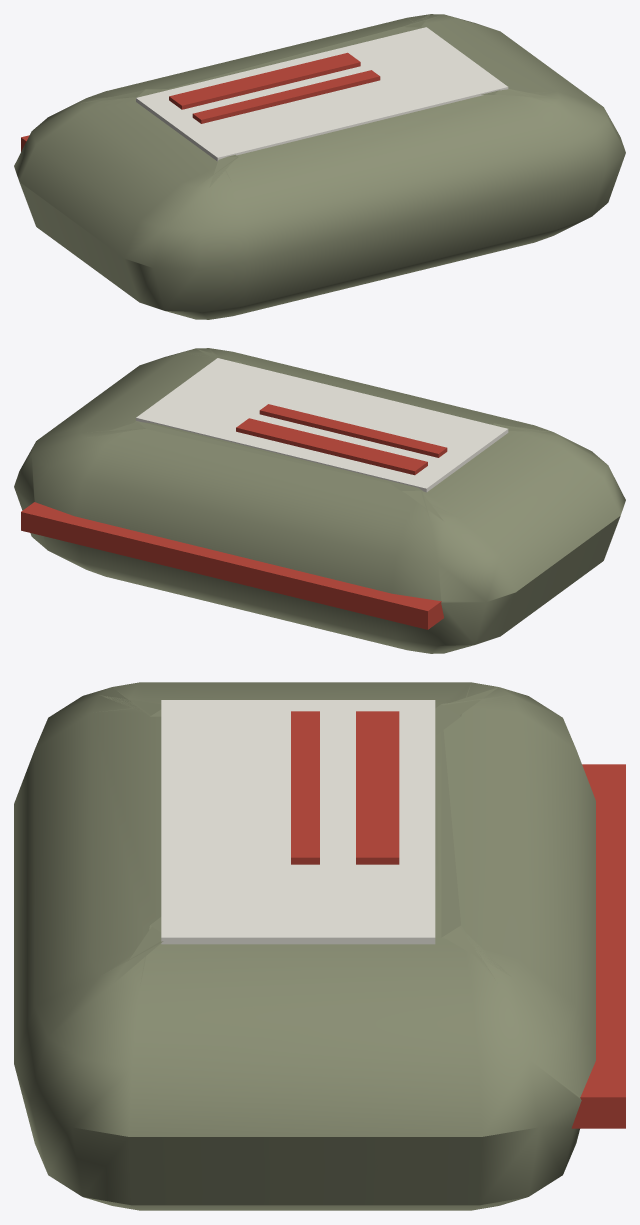
Rendered from field_dressing.glb.
3 views of the same model, one above another, from view 1: azimuth 30°, elevation 25°; view 2: azimuth 150°, elevation 25°; view 3: azimuth 270°, elevation 25° (orthographic). The views are drawn at different scales.
Parts seen in each view (by area): view 1: body, label; view 2: body, label; view 3: body, label.
Part boxes in pixels (x1=…): body: x1=14, y1=14, x2=625, y2=319; label: x1=136, y1=27, x2=508, y2=161; body: x1=14, y1=348, x2=625, y2=653; label: x1=136, y1=358, x2=508, y2=492; body: x1=14, y1=682, x2=625, y2=1210; label: x1=161, y1=700, x2=435, y2=944.
Size of the model in its own units: 0.1332 by 0.0398 by 0.0848.
